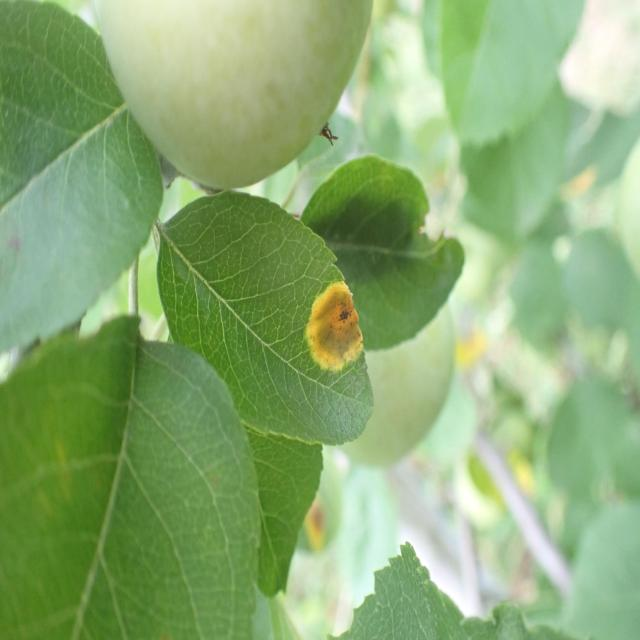Rust: (285, 272, 372, 384)
